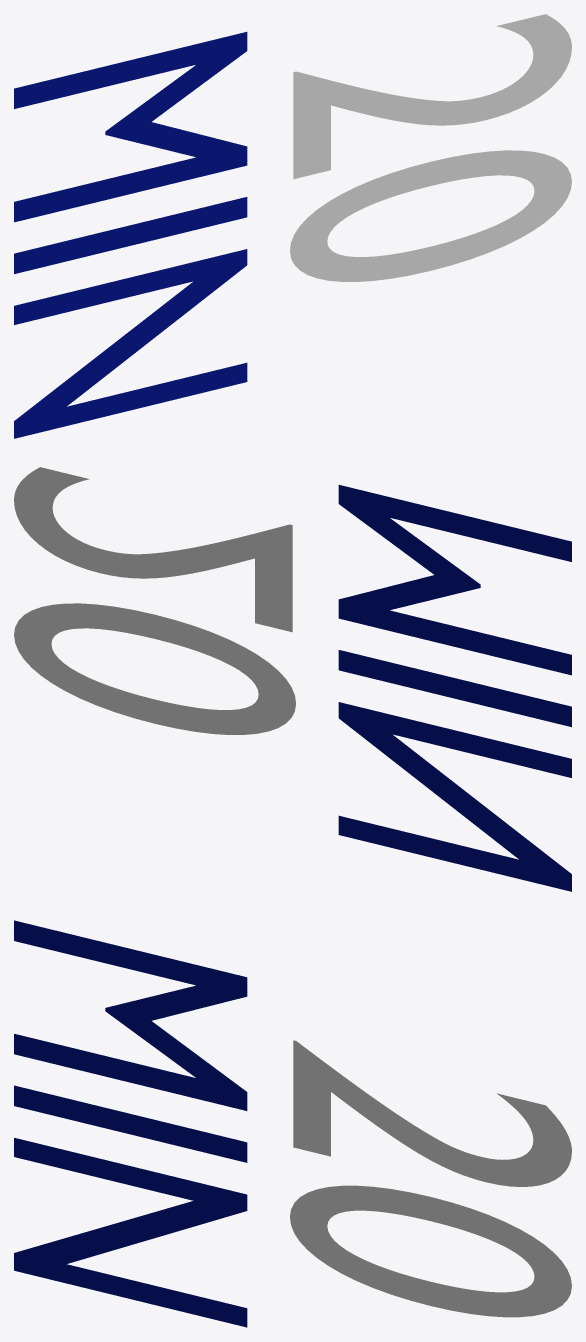
Rendered from 地面标识-限速下限20.gltf.
The picture shows the model from 3 angles, top to bottom: view 1: azimuth 30°, elevation 25°; view 2: azimuth 150°, elevation 25°; view 3: azimuth 330°, elevation 25°; orthographic projection.
Visible parts, largest first — view 1: 文本.002, 文本; view 2: 文本.002, 文本; view 3: 文本.002, 文本.
Part boxes in pixels (x1,y1,x2,y2): 文本.002: (14,32,247,438); 文本: (290,14,571,281); 文本.002: (338,485,571,891); 文本: (14,467,295,734); 文本.002: (14,920,247,1327); 文本: (290,1040,571,1317).
Size of the model in its own units: 3.4 by 2.04 by 8.08e-07.
